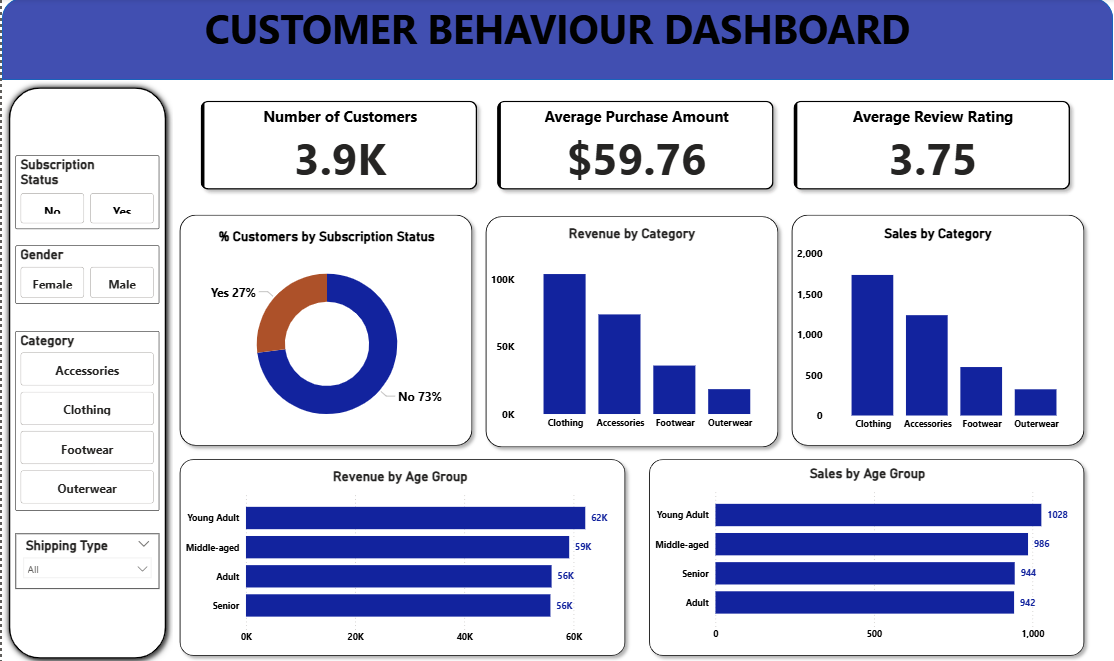

The page's visual inventory and layout, read from the dashboard file:
{"tool":"powerbi","page":{"name":"Page 1","canvas":[1500,900],"ordinal":0},"visuals":[{"type":"shape","box":[643.6,285.4,412.9,329.9],"z":0},{"type":"cardVisual","fields":{"Data":["customer_shopping_behaviour.Number of Customers","customer_shopping_behaviour.Average Purchase Amount","customer_shopping_behaviour.Average Review Rating"]},"box":[240.9,111.3,1228.6,174.1],"z":1000},{"type":"shape","box":[0,0,1499.3,110.6],"z":2000},{"type":"textbox","box":[0,0,1498.8,111],"z":3000},{"type":"shape","box":[230.7,283.4,412.9,329.9],"z":4000},{"type":"donutChart","title":"% Customers by Subscription Status","fields":{"Category":["customer_shopping_behaviour.subscription_status"],"Y":["CountNonNull(customer_shopping_behaviour.customer_id)"]},"box":[240.9,311.7,394.7,287.4],"z":5000},{"type":"clusteredColumnChart","title":"Revenue by Category","fields":{"Y":["Sum(customer_shopping_behaviour.purchase_amount)"],"Category":["customer_shopping_behaviour.category"]},"box":[653.8,307.7,392.7,283.4],"z":6000},{"type":"shape","box":[1056.5,283.4,412.9,329.9],"z":7000},{"type":"clusteredColumnChart","title":"Sales by Category","fields":{"Category":["customer_shopping_behaviour.category"],"Y":["CountNonNull(customer_shopping_behaviour.customer_id)"]},"box":[1066.7,307.7,392.7,285.4],"z":8000},{"type":"shape","box":[0,111.3,230.7,789.4],"z":9000},{"type":"advancedSlicerVisual","title":"Subscription Status","fields":{"Values":["customer_shopping_behaviour.subscription_status"]},"box":[18.2,212.5,194.3,99.2],"z":10000},{"type":"advancedSlicerVisual","title":"Gender","fields":{"Values":["customer_shopping_behaviour.gender"]},"box":[18.2,334,194.3,78.9],"z":11000},{"type":"advancedSlicerVisual","title":"Category","fields":{"Values":["customer_shopping_behaviour.category"]},"box":[18.2,449.3,194.3,242.9],"z":12000},{"type":"slicer","title":"Shipping Type","fields":{"Values":["customer_shopping_behaviour.shipping_type"]},"box":[18.2,722.6,194.3,74.9],"z":13000},{"type":"shape","box":[230.7,613.3,619.4,283.4],"z":14000},{"type":"shape","box":[864.3,613.3,605.2,283.4],"z":15000},{"type":"barChart","title":"Sales by Age Group","fields":{"Category":["customer_shopping_behaviour.age_group"],"Y":["CountNonNull(customer_shopping_behaviour.customer_id)"]},"box":[874.4,631.5,587,244.9],"z":16000},{"type":"barChart","title":"Revenue by Age Group","fields":{"Y":["Sum(customer_shopping_behaviour.purchase_amount)"],"Category":["customer_shopping_behaviour.age_group"]},"box":[240.9,635.5,593,244.9],"z":17000}]}

Visuals, with their boxes in screenshot pixels (x1, y1, x2, y2), scaled from the page's 1500x900 canvas onto the 1114x661 screenshot:
shape: {"left": 478, "top": 210, "right": 785, "bottom": 452}
cardVisual - customer_shopping_behaviour.Number of Customers x customer_shopping_behaviour.Average Purchase Amount: {"left": 179, "top": 82, "right": 1091, "bottom": 210}
shape: {"left": 0, "top": 0, "right": 1113, "bottom": 81}
textbox: {"left": 0, "top": 0, "right": 1113, "bottom": 82}
shape: {"left": 171, "top": 208, "right": 478, "bottom": 450}
"% Customers by Subscription Status" donutChart: {"left": 179, "top": 229, "right": 472, "bottom": 440}
"Revenue by Category" clusteredColumnChart: {"left": 486, "top": 226, "right": 777, "bottom": 434}
shape: {"left": 785, "top": 208, "right": 1091, "bottom": 450}
"Sales by Category" clusteredColumnChart: {"left": 792, "top": 226, "right": 1084, "bottom": 436}
shape: {"left": 0, "top": 82, "right": 171, "bottom": 660}
"Subscription Status" advancedSlicerVisual: {"left": 14, "top": 156, "right": 158, "bottom": 229}
"Gender" advancedSlicerVisual: {"left": 14, "top": 245, "right": 158, "bottom": 303}
"Category" advancedSlicerVisual: {"left": 14, "top": 330, "right": 158, "bottom": 508}
"Shipping Type" slicer: {"left": 14, "top": 531, "right": 158, "bottom": 586}
shape: {"left": 171, "top": 450, "right": 631, "bottom": 659}
shape: {"left": 642, "top": 450, "right": 1091, "bottom": 659}
"Sales by Age Group" barChart: {"left": 649, "top": 464, "right": 1085, "bottom": 644}
"Revenue by Age Group" barChart: {"left": 179, "top": 467, "right": 619, "bottom": 647}
